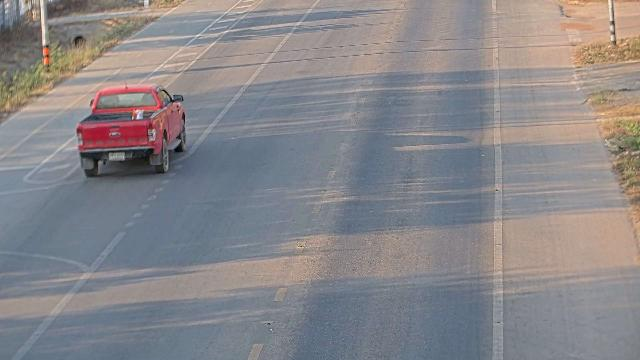pickup-truck: (75, 82, 187, 177)
